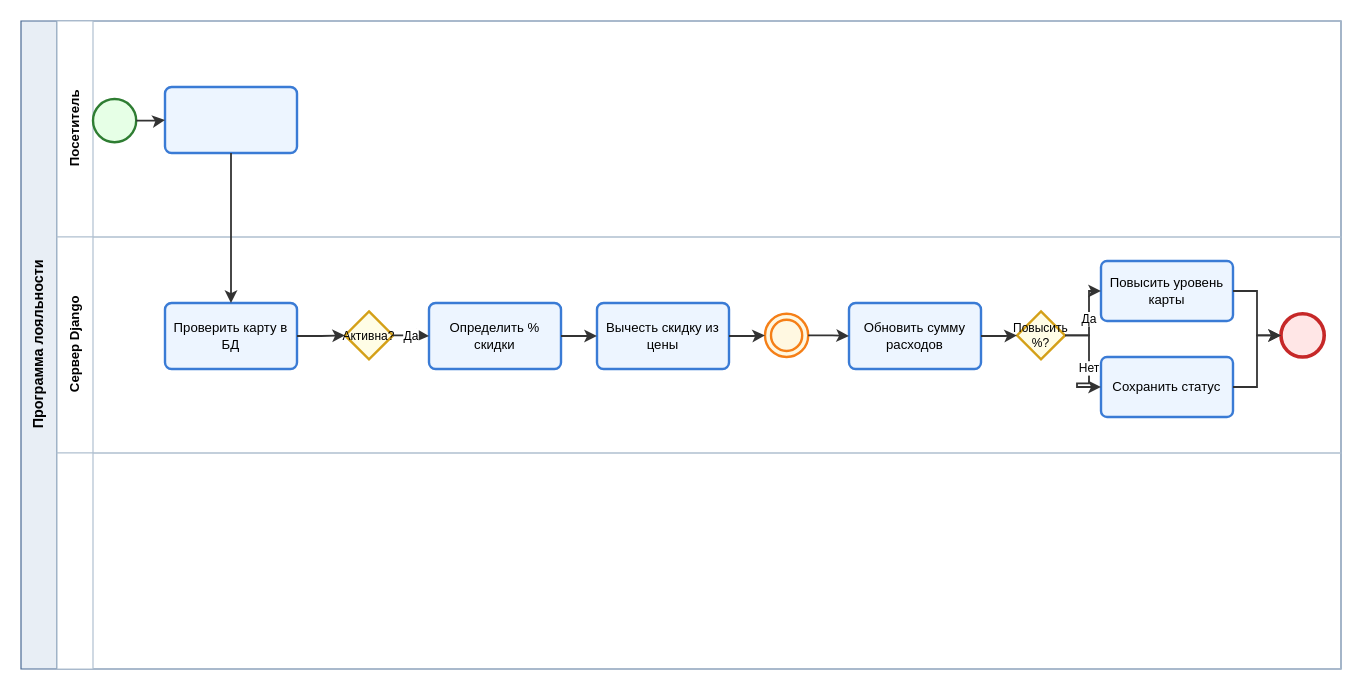
The diagram is 1362 pixels wide and 690 high, and some of its shapes have lost their labels. The shapes that lost their labels are listed below. From the top down, each one's centre as x and y in pixels, then its label:
At pixel 114 120: "Старт".
At pixel 230 119: "Ввести номер карты".
At pixel 786 335: "Оплата сессии".
At pixel 1302 334: "Завершено".
At pixel 698 560: "Администратор".
